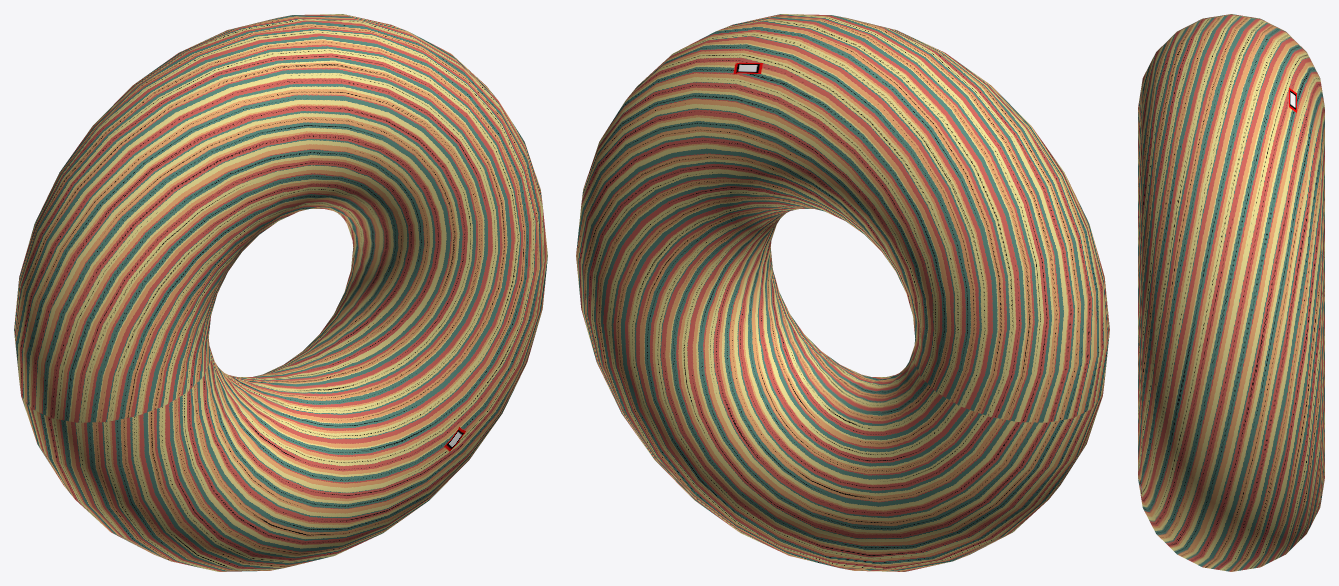
The model's file is uv_checkerboard_res_1024_iter_765_cat_map.obj.
3 views of the same model, side by side, from view 1: azimuth 30°, elevation 25°; view 2: azimuth 150°, elevation 25°; view 3: azimuth 270°, elevation 25° (orthographic). The views are drawn at different scales.
Bounding box in the file's own units: 3 × 2.98 × 1.
